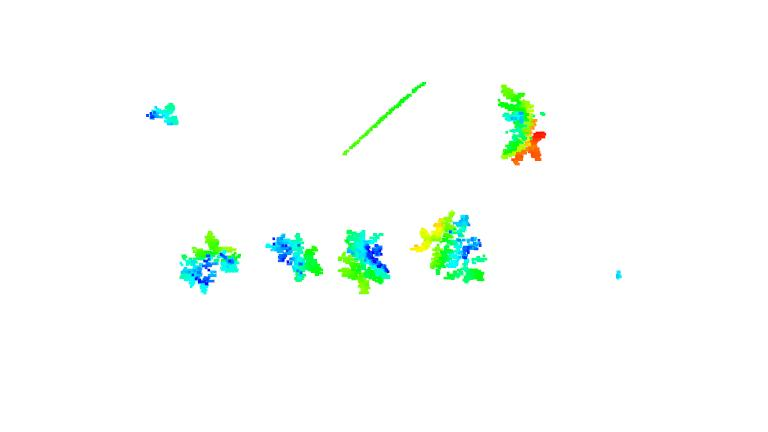chickpea: (414, 212, 489, 285), (495, 80, 547, 165), (178, 230, 240, 294), (334, 228, 392, 296), (267, 231, 325, 282), (143, 98, 180, 127)
